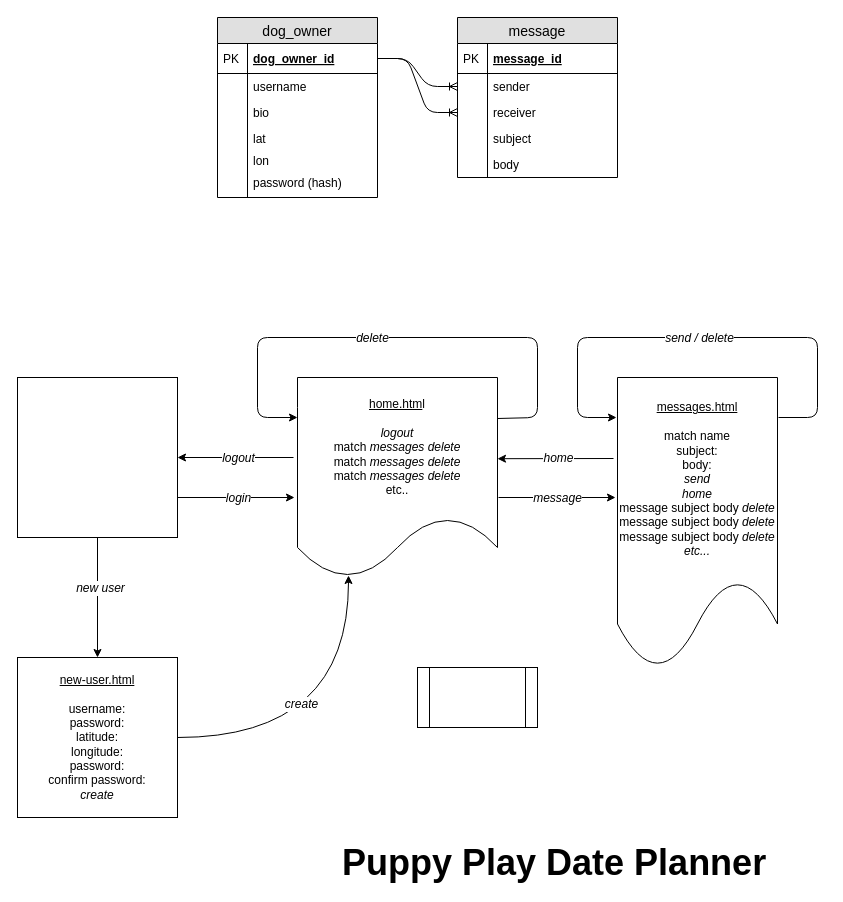
Image size: 843x902. Some labels were removed from this diagram. The shapes that lost their labels are listed below. From the top down, each one's box as (x1, y1, x2, y2) in pixels, then its label:
(16, 376, 178, 538): index.html username: password: login new user
(416, 666, 538, 728): url link field:
